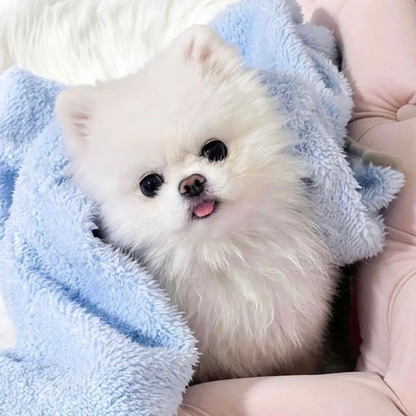Pomeranian: (43, 33, 379, 368)
